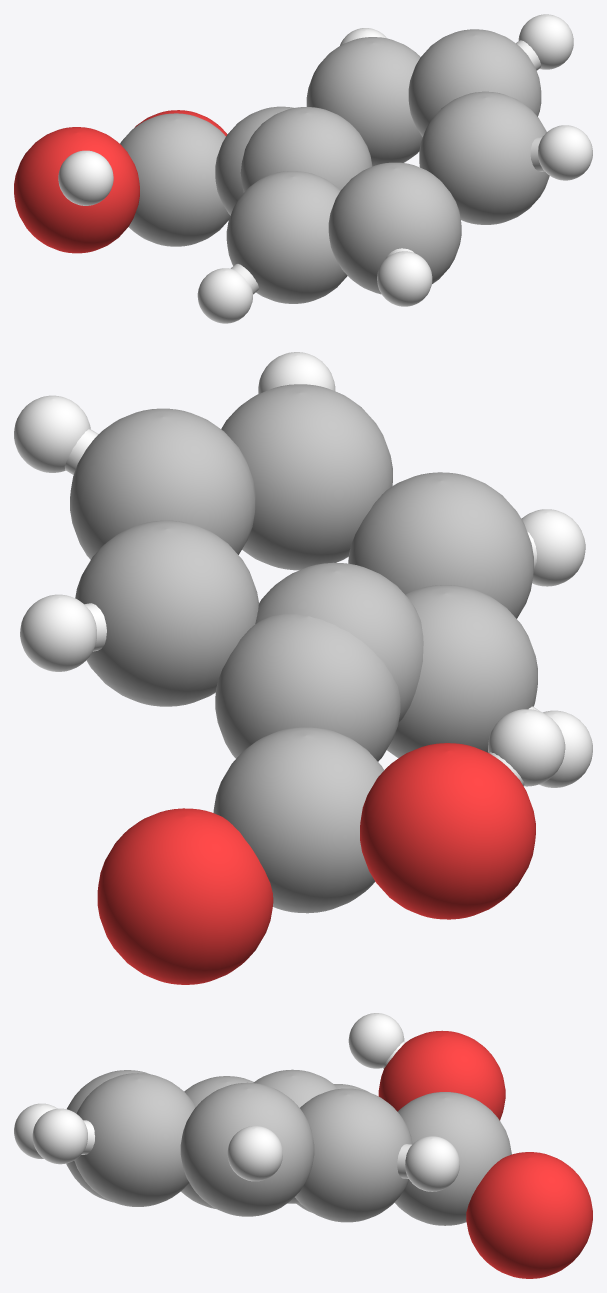
The model's file is C6H5COOH.glb.
3 views of the same model, one above another, from view 1: azimuth 30°, elevation 25°; view 2: azimuth 150°, elevation 25°; view 3: azimuth 270°, elevation 25° (orthographic). The views are drawn at different scales.
Visible parts, largest first — view 1: Carbon_ball (×9), Hydrogen_ball (×7), Oxygen_ball; view 2: Carbon_ball (×8), Oxygen_ball (×4), Hydrogen_ball (×8); view 3: Carbon_ball (×10), Oxygen_ball (×3), Hydrogen_ball (×6).
Boxes of the visible parts, x1,y1,x2,y2 form: Carbon_ball (×9): (120, 29, 549, 303); Hydrogen_ball (×7): (58, 14, 592, 323); Oxygen_ball: (14, 127, 139, 253); Carbon_ball (×8): (70, 384, 537, 913); Oxygen_ball (×4): (97, 743, 535, 984); Hydrogen_ball (×8): (14, 352, 592, 787); Carbon_ball (×10): (66, 1069, 511, 1225); Oxygen_ball (×3): (378, 1030, 592, 1278); Hydrogen_ball (×6): (14, 1013, 459, 1191).
Size of the model in its own units: 6.06 by 3.31 by 6.65.
